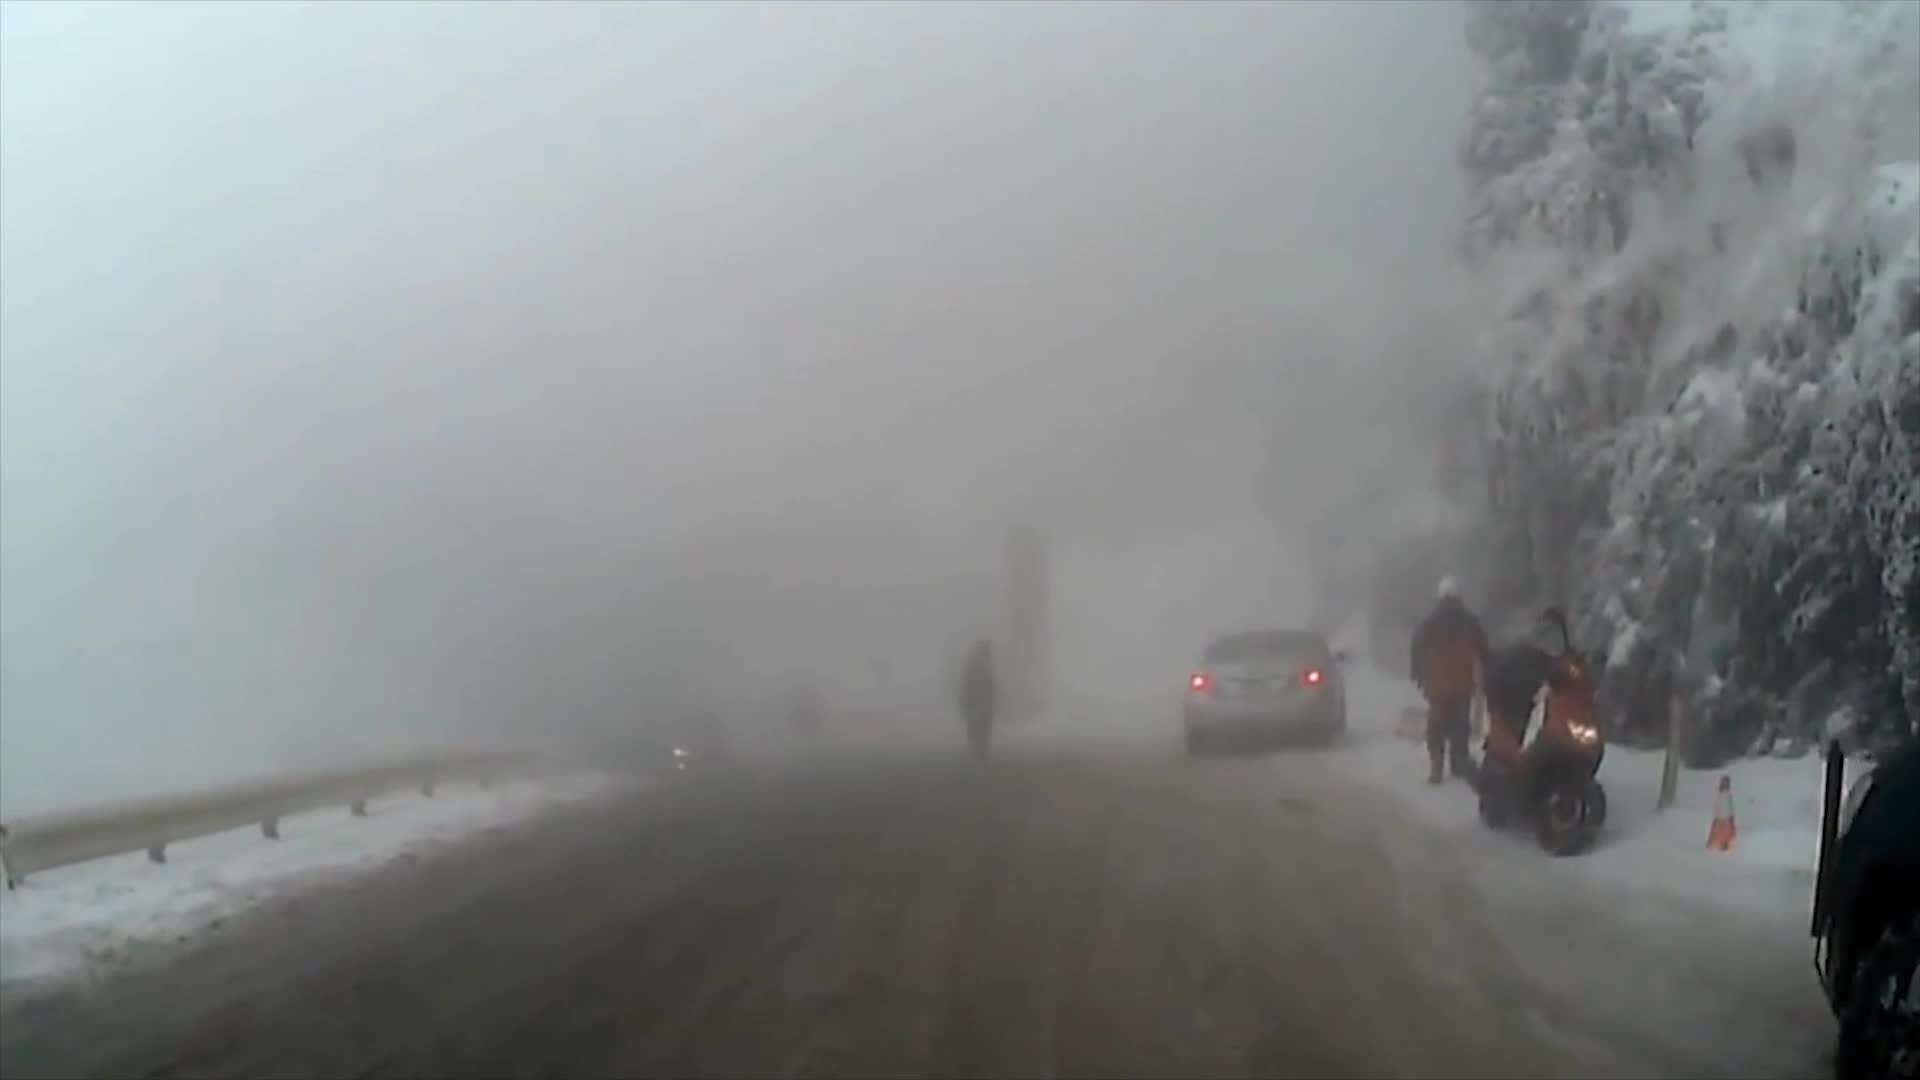pedestrian: (1408, 568, 1497, 788), (955, 637, 999, 775)
vehicle: (1805, 692, 1919, 1079), (1178, 623, 1348, 756)
